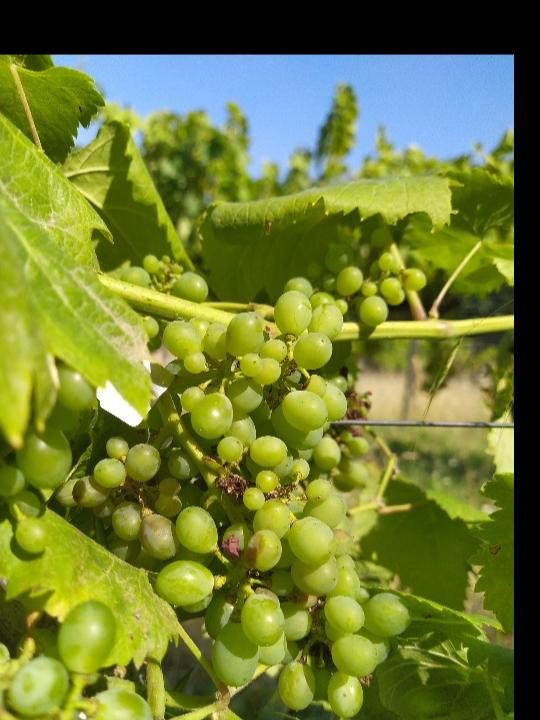grape: (57, 288, 413, 720), (307, 218, 431, 327)
